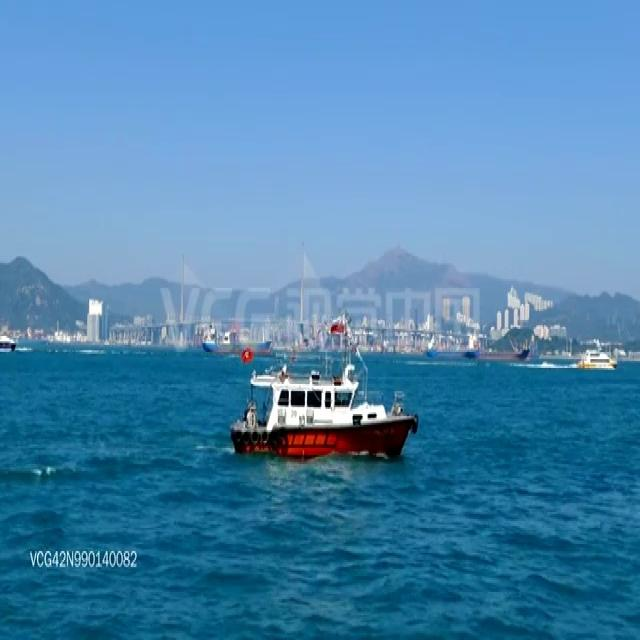houseboat: (226, 366, 416, 460), (576, 345, 617, 372), (0, 330, 17, 358)
